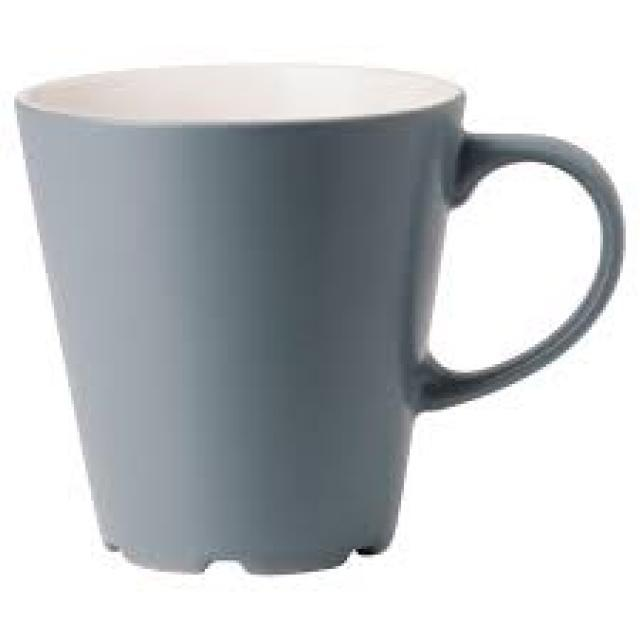taza: (11, 59, 625, 576)
